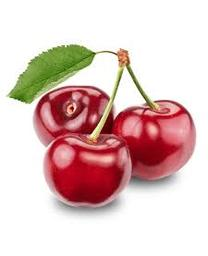cherry: (42, 133, 132, 209), (114, 99, 196, 181), (32, 86, 117, 155)
